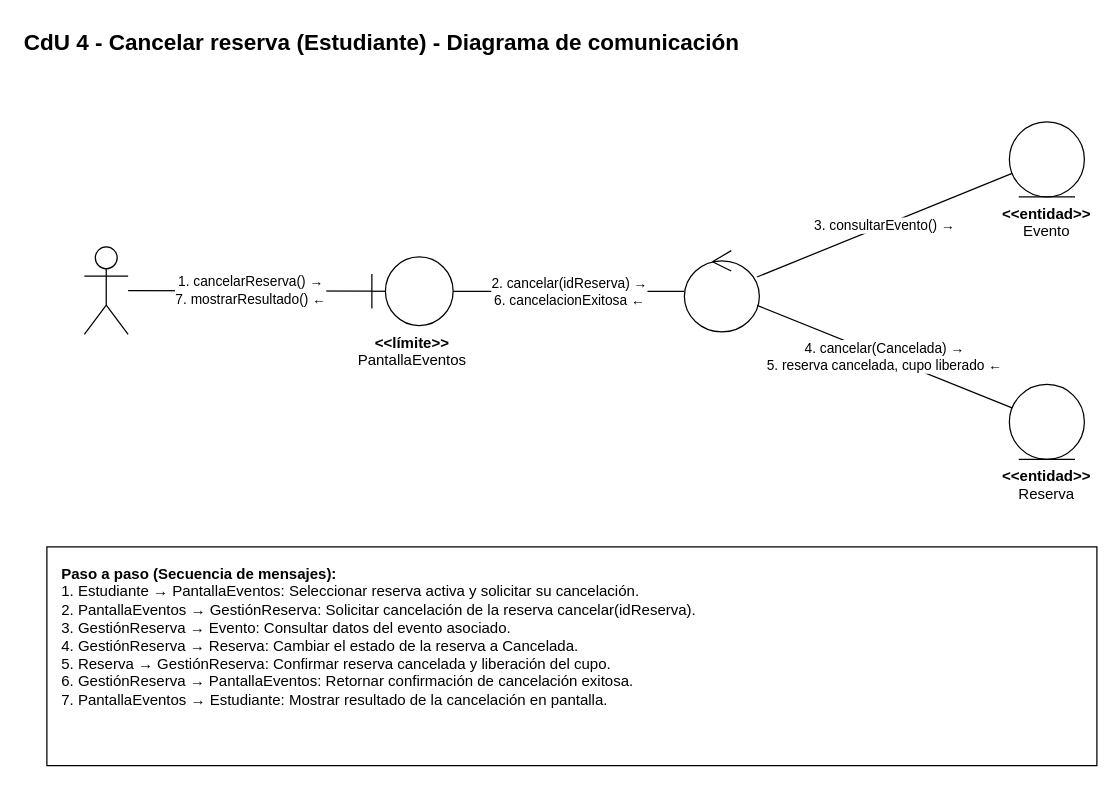
This 1119x788 diagram has some shape labels left out. The centre of each missing label's shape, as x and y in pixels:
"<<actor>> Estudiante" belongs at [105,290].
"<<control>> GestiónReserva" belongs at [721,290].
